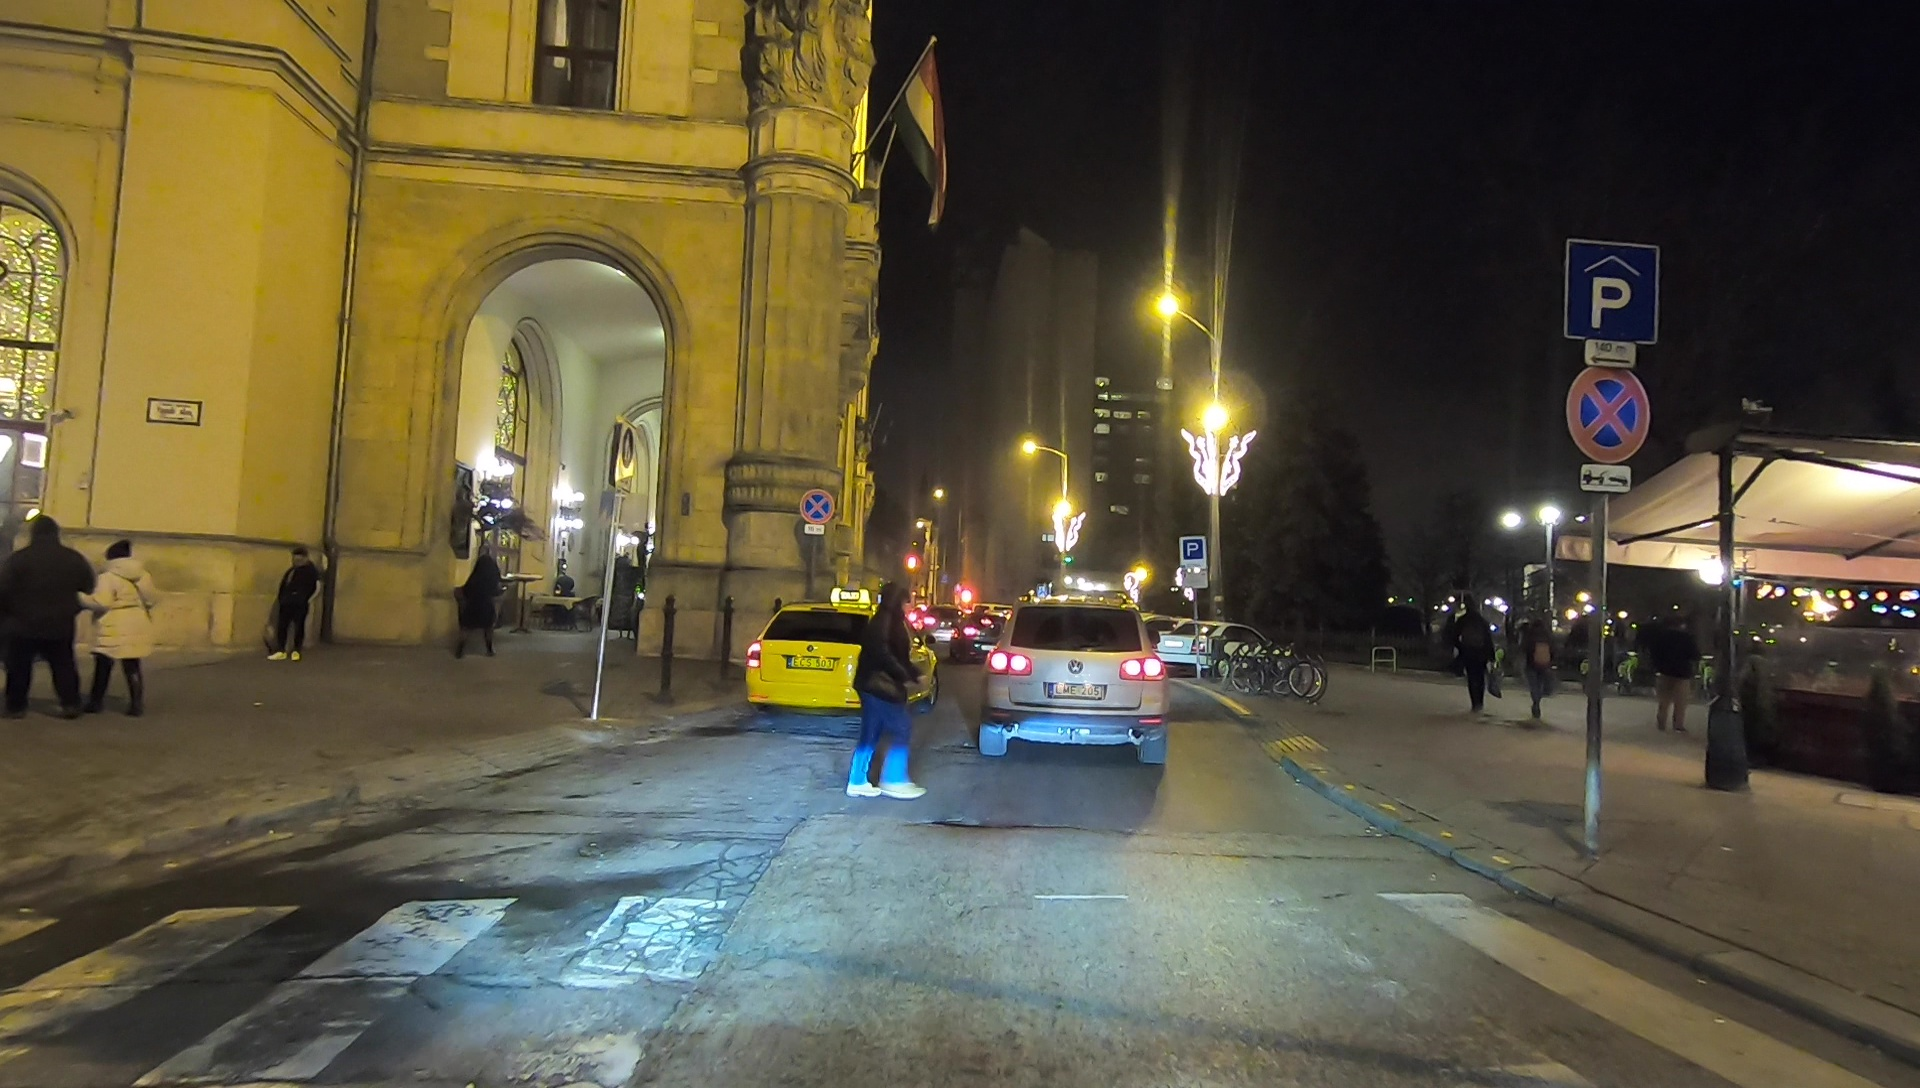person: (2, 515, 91, 724), (849, 582, 930, 806), (91, 541, 160, 708), (260, 545, 323, 661), (1652, 613, 1701, 736), (452, 543, 501, 658), (1454, 600, 1497, 724), (1523, 606, 1560, 724)
